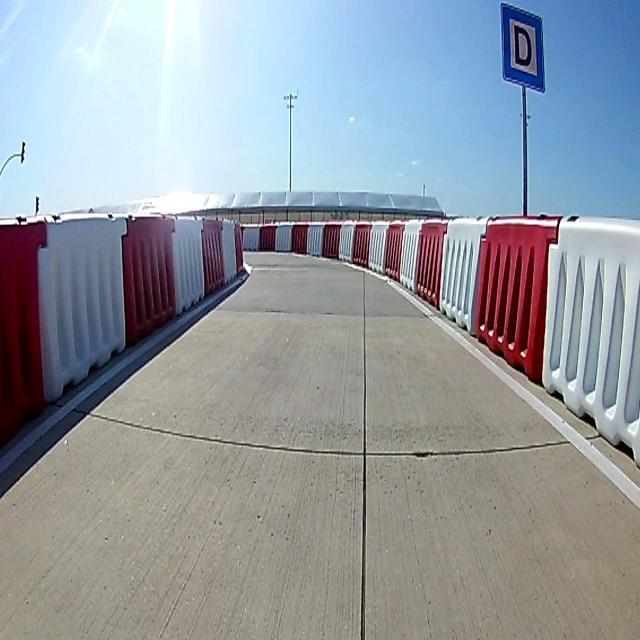durak: (502, 7, 544, 88)
